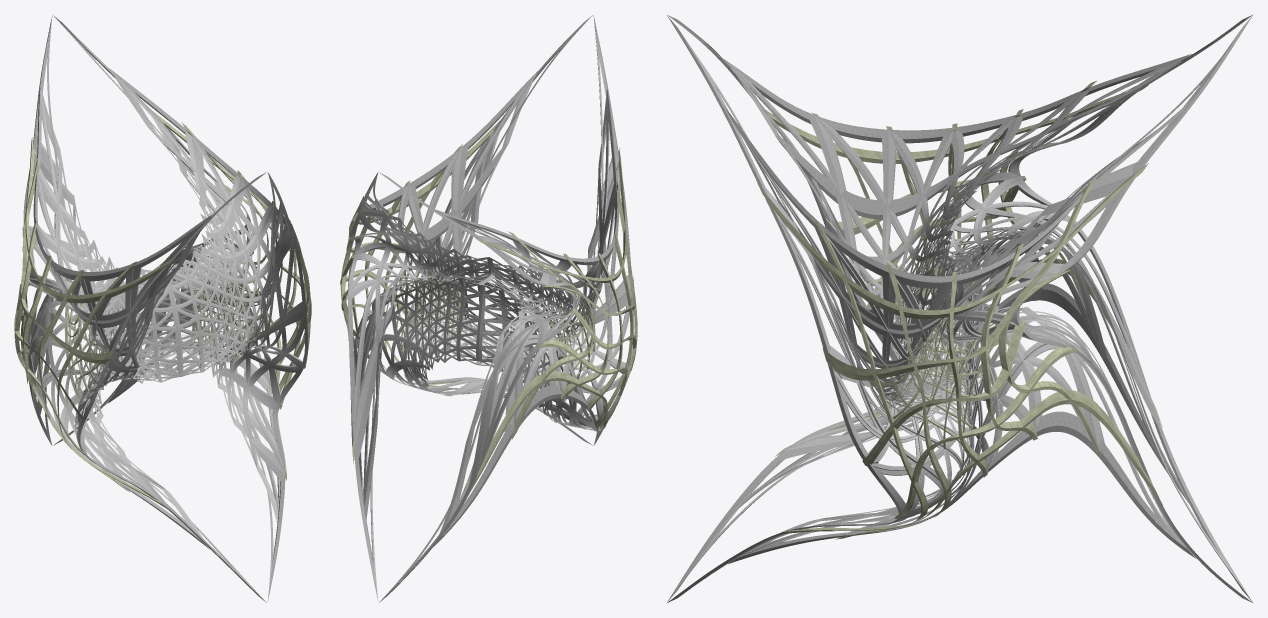
3 views of the same model, side by side, from view 1: azimuth 30°, elevation 25°; view 2: azimuth 150°, elevation 25°; view 3: azimuth 270°, elevation 25° (orthographic). The views are drawn at different scales.
Parts seen in each view (by area): view 1: untitled_2; view 2: untitled_2; view 3: untitled_2.
Boxes of the visible parts, box(x1,y1,x2,y2) form: untitled_2: box(14, 15, 311, 602); untitled_2: box(340, 15, 637, 602); untitled_2: box(666, 14, 1253, 603).
Bounding box in the file's own units: 53.03 × 80.24 × 72.5.
5 materials, 3 textured.
